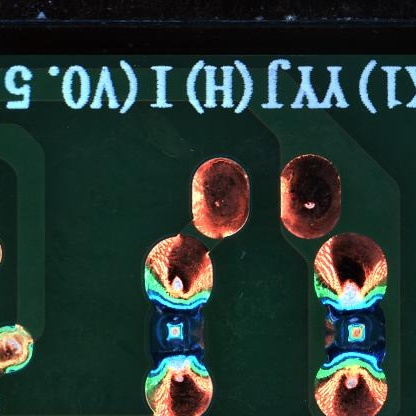spot: (327, 309, 386, 360), (150, 310, 205, 357)
